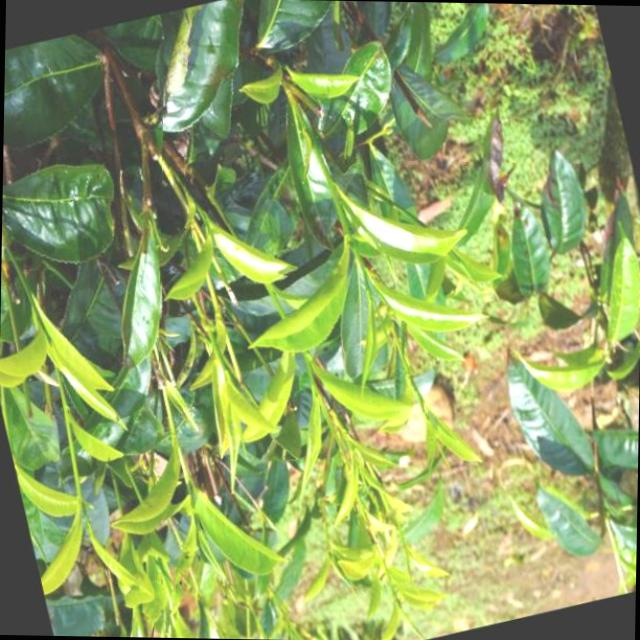Stem: (190, 515, 197, 523), (76, 489, 82, 496), (310, 379, 316, 386), (424, 407, 429, 412)
